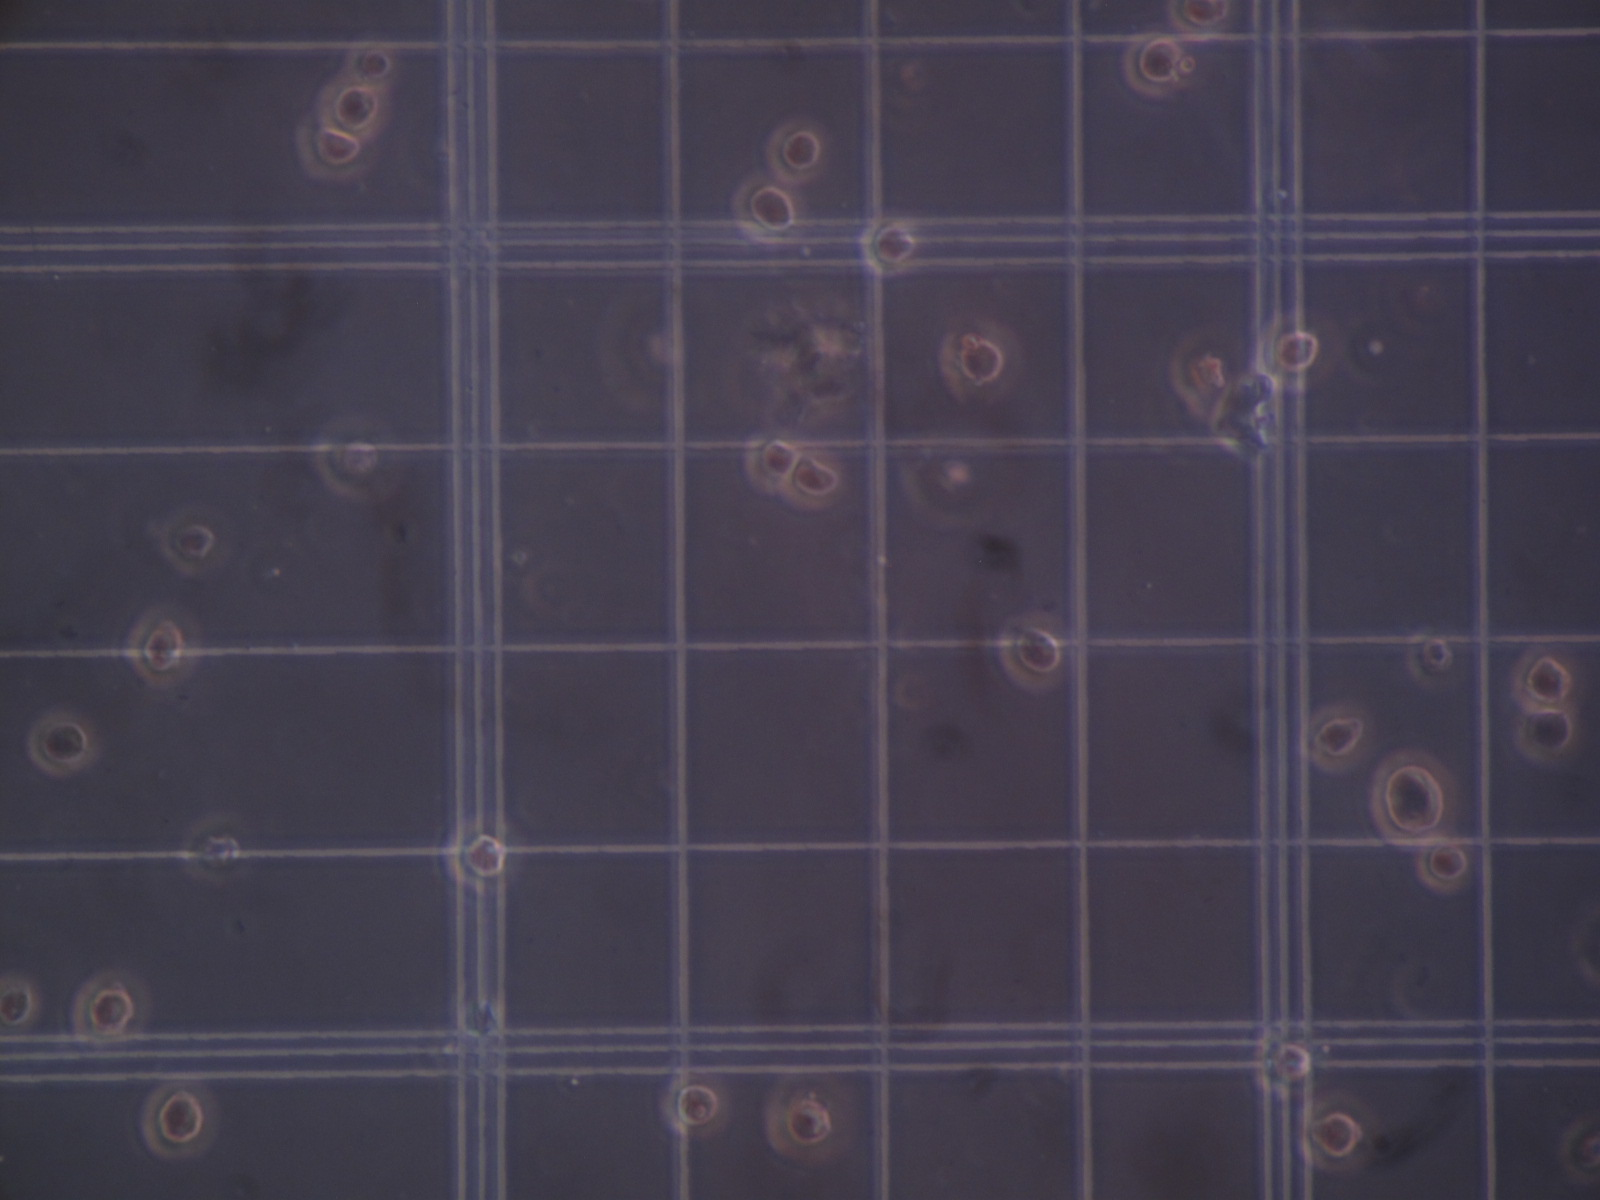hemo: (1369, 747, 1456, 846), (763, 1069, 852, 1163), (939, 314, 1020, 402), (123, 604, 202, 688), (1259, 310, 1338, 392), (72, 967, 151, 1046), (1300, 1092, 1376, 1172), (140, 1080, 217, 1158), (312, 416, 379, 499), (1167, 332, 1230, 417), (294, 113, 372, 182), (997, 613, 1065, 691), (729, 175, 803, 247), (1303, 702, 1373, 773), (443, 821, 510, 892), (26, 711, 98, 776), (660, 1073, 729, 1138), (1512, 645, 1577, 713), (157, 508, 222, 577), (181, 816, 243, 885), (766, 118, 829, 185), (317, 77, 387, 137), (1121, 33, 1183, 98), (1252, 1031, 1313, 1098), (1516, 708, 1582, 766), (785, 450, 845, 511), (859, 216, 918, 277), (745, 434, 797, 494), (1416, 837, 1471, 892), (1405, 629, 1454, 689), (1167, 1, 1237, 42), (346, 39, 401, 91), (1, 973, 42, 1042), (1558, 1117, 1600, 1184)
